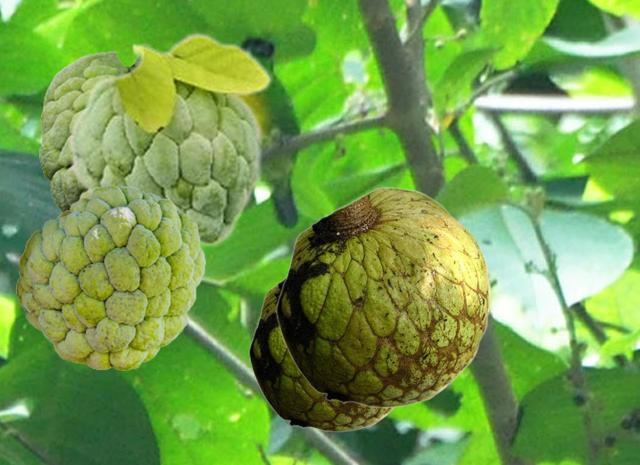atis: (275, 186, 490, 407), (66, 31, 272, 248), (16, 185, 204, 369), (248, 277, 395, 431), (39, 50, 131, 213)
